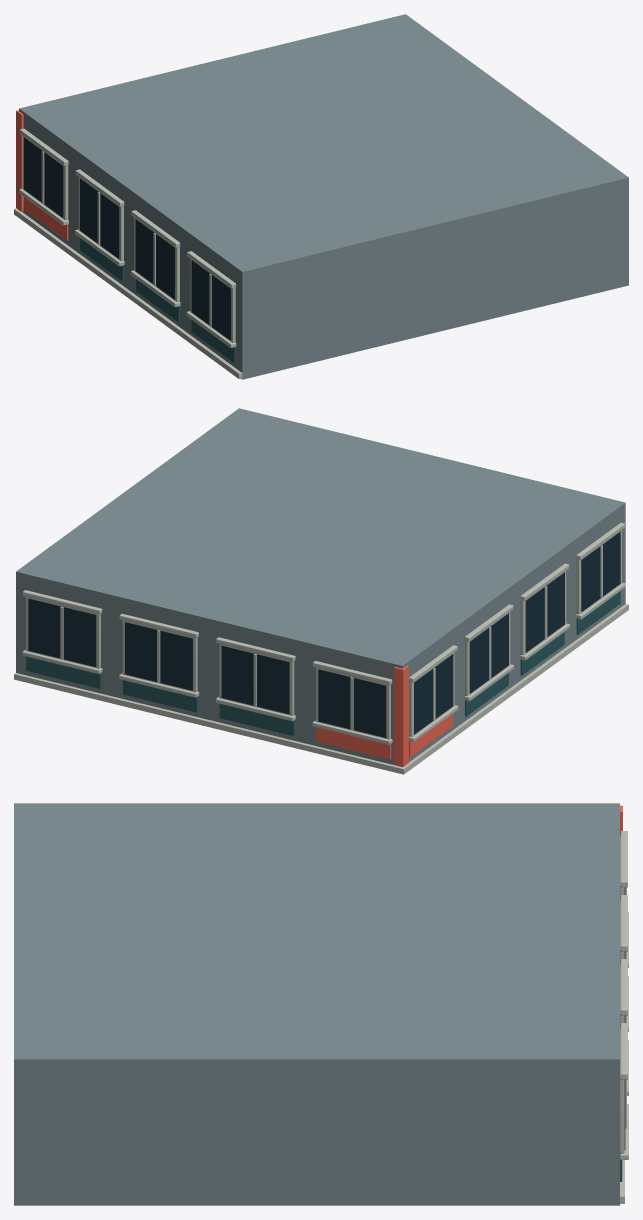
File: d03_apartment_family_06_outside.glb
3 views of the same model, one above another, from view 1: azimuth 30°, elevation 25°; view 2: azimuth 150°, elevation 25°; view 3: azimuth 270°, elevation 25° (orthographic). The views are drawn at different scales.
Visible parts, largest first — view 1: D03ApartmentFamily06Outside_Mesh; view 2: D03ApartmentFamily06Outside_Mesh; view 3: D03ApartmentFamily06Outside_Mesh.
Part boxes in pixels (x1=…): D03ApartmentFamily06Outside_Mesh: x1=14, y1=14, x2=628, y2=379; D03ApartmentFamily06Outside_Mesh: x1=14, y1=408, x2=628, y2=774; D03ApartmentFamily06Outside_Mesh: x1=14, y1=803, x2=628, y2=1205.
Bounding box in the file's own units: 12.18 × 3.2 × 12.18.
